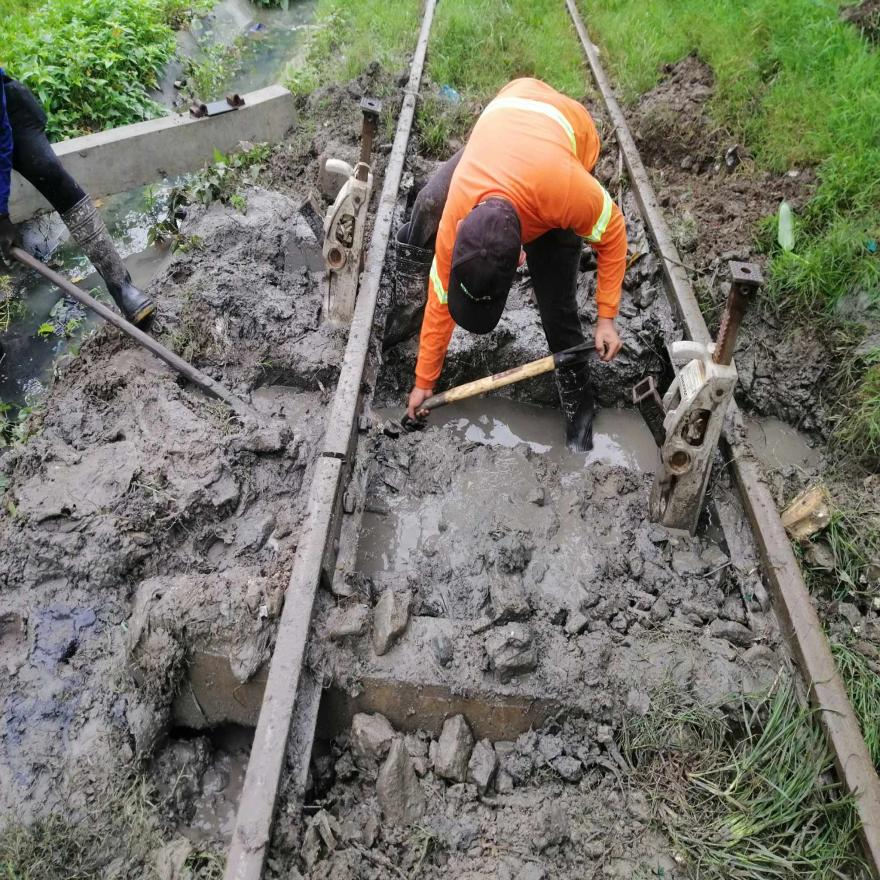railway-gap: (306, 421, 358, 490)
